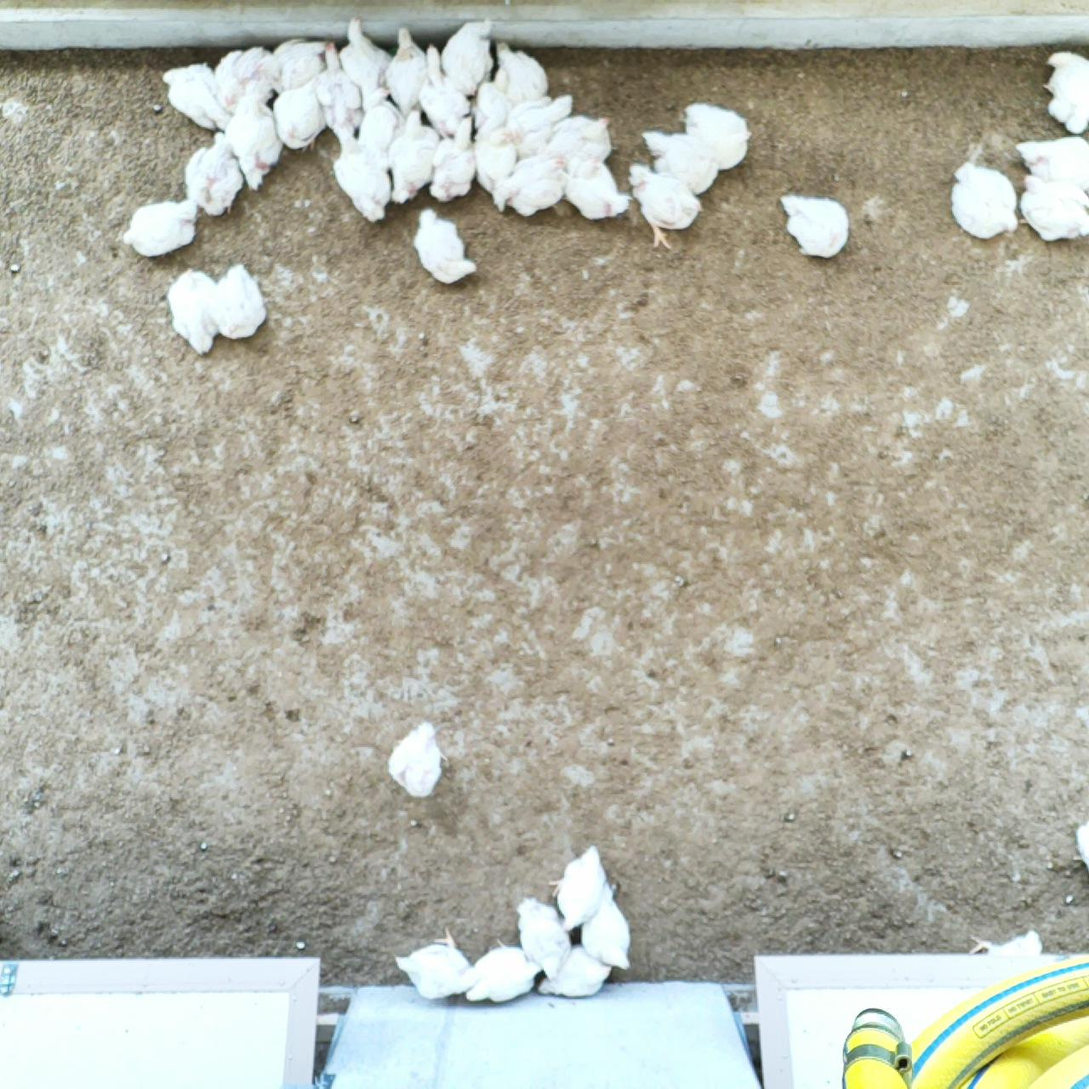chicken: (626, 160, 710, 252), (221, 89, 287, 194), (390, 925, 477, 1002), (947, 160, 1022, 249), (638, 123, 724, 197), (546, 843, 613, 937), (384, 103, 443, 209), (181, 129, 247, 221), (464, 934, 547, 1007), (332, 134, 398, 225), (164, 264, 224, 361), (157, 57, 233, 133), (414, 41, 474, 136), (513, 893, 577, 982), (313, 39, 371, 136), (680, 96, 753, 173), (777, 191, 853, 264), (412, 207, 479, 289), (425, 113, 484, 205), (487, 153, 569, 219), (385, 719, 450, 802), (504, 92, 577, 165), (561, 155, 635, 227), (120, 195, 199, 262), (1016, 171, 1089, 241), (210, 259, 270, 343), (208, 44, 281, 113), (439, 15, 499, 98), (1013, 132, 1089, 195), (1037, 43, 1089, 135), (537, 941, 615, 1002), (578, 893, 636, 972), (337, 14, 397, 88), (269, 80, 330, 151), (382, 23, 429, 115), (265, 33, 331, 96), (492, 37, 552, 106), (545, 112, 621, 165), (469, 121, 523, 195), (355, 85, 407, 159), (968, 929, 1045, 966), (1068, 819, 1089, 874)
